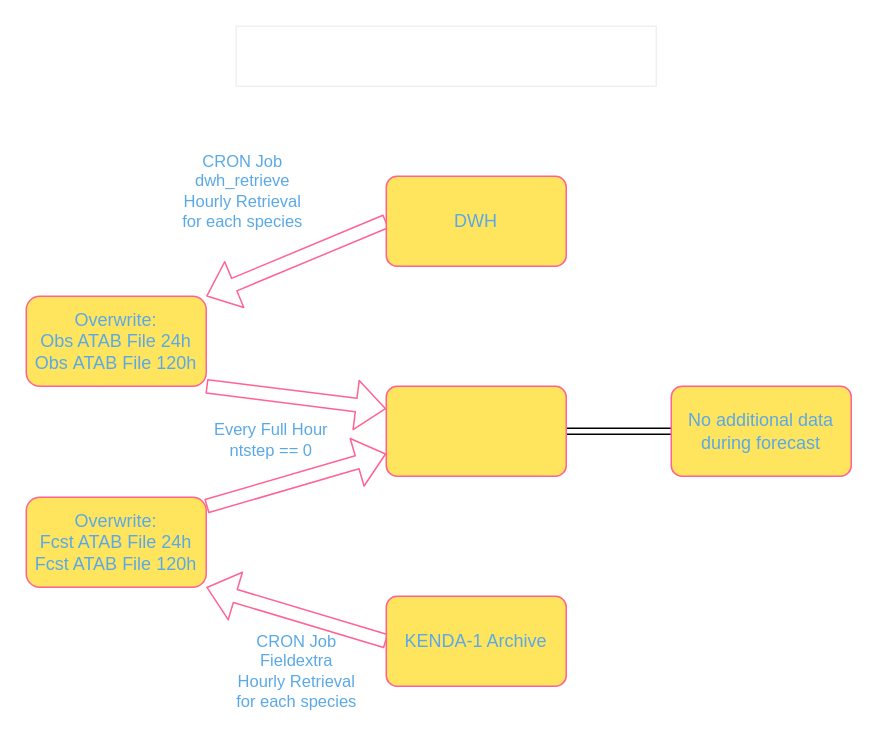
The diagram is 878 pixels wide and 737 high, and some of its shapes have lost their labels. The shapes that lost their labels are listed below. From the top down, each one's centre as x and y in pixels, then its label:
(x=445, y=55): Pollen Assimilation
(x=475, y=430): KENDA-1
